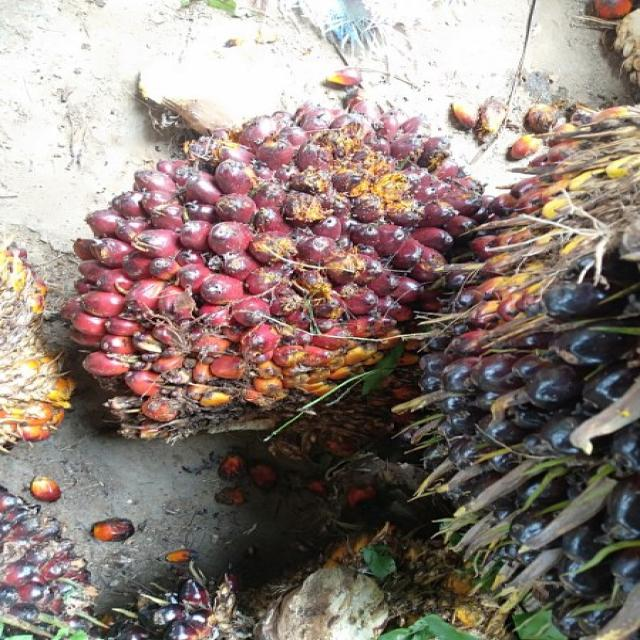fraksi 1: (22, 58, 504, 469)
